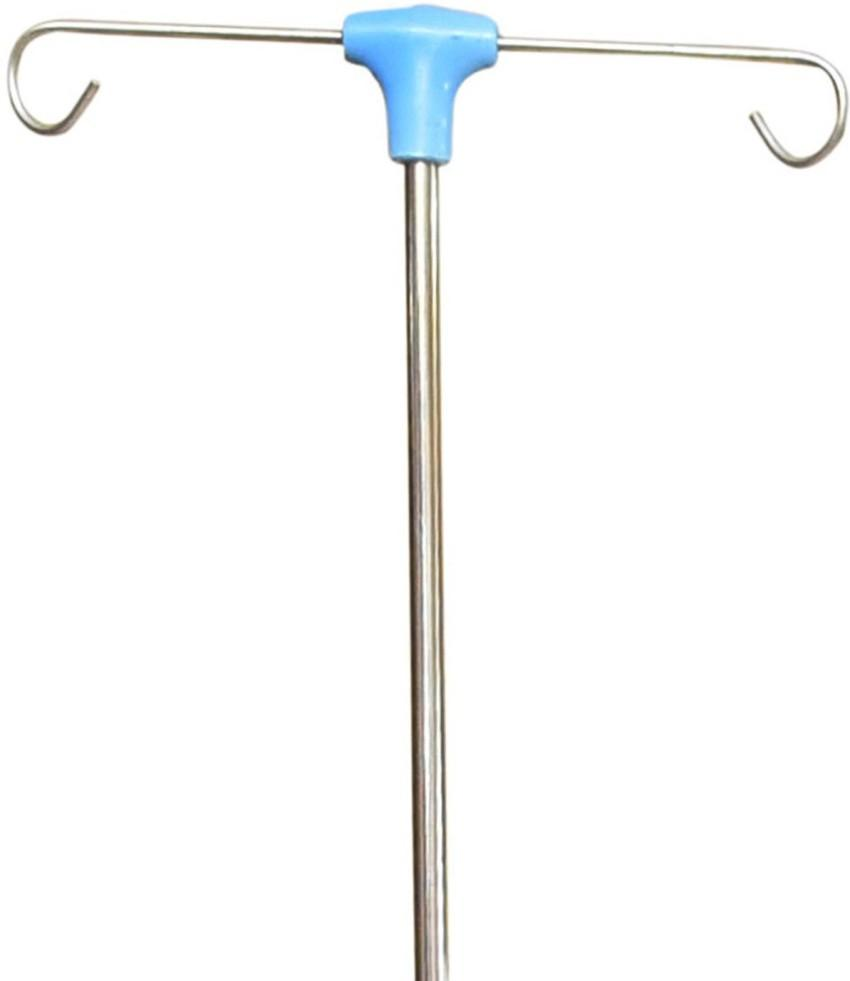Saline Stand: (3, 0, 848, 980)
